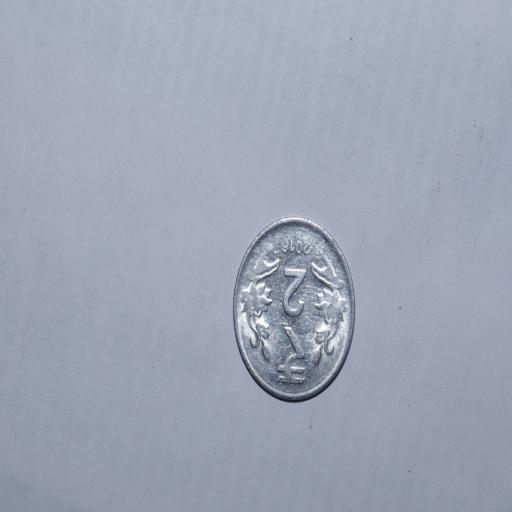rupee2: (232, 210, 358, 402)
